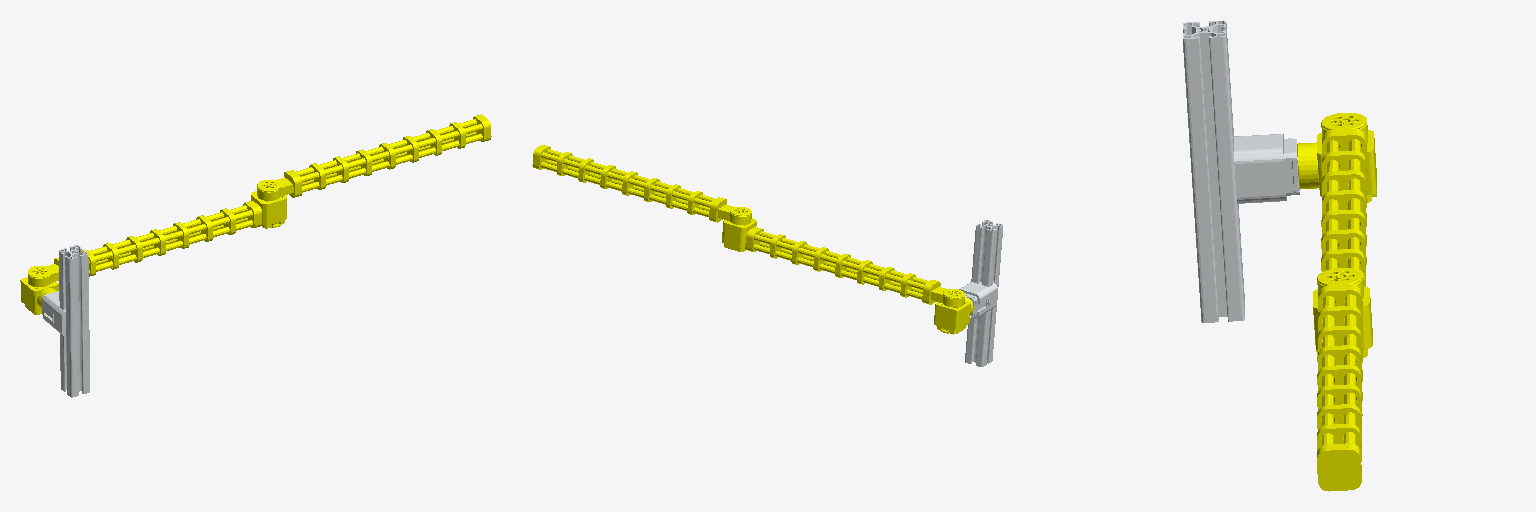
URDF robot description (Pierna enteraaaaaaaaaaa.SLDASM):
<?xml version="1.0" encoding="utf-8"?>
<!-- This URDF was automatically created by SolidWorks to URDF Exporter! Originally created by [author] ([email redacted]) 
     Commit Version: 1.6.0-4-g7f85cfe  Build Version: 1.6.7995.38578
     For more information, please see http://wiki.ros.org/sw_urdf_exporter -->
<robot
  name="Pierna enteraaaaaaaaaaa.SLDASM">
  <link
    name="base_link">
    <inertial>
      <origin
        xyz="-0.0025025 -0.17588 0.25152"
        rpy="0 0 0" />
      <mass
        value="0.31319" />
      <inertia
        ixx="0.0011307"
        ixy="-1.0144E-05"
        ixz="5.0665E-05"
        iyy="0.0011316"
        iyz="6.2853E-05"
        izz="0.00011229" />
    </inertial>
    <visual>
      <origin
        xyz="0 0 0"
        rpy="0 0 0" />
      <geometry>
        <mesh
          filename="package://lesson_urdf/meshes/base_link.STL" />
      </geometry>
      <material
        name="">
        <color
          rgba="0.89804 0.92157 0.92941 1" />
      </material>
    </visual>
    <collision>
      <origin
        xyz="0 0 0"
        rpy="0 0 0" />
      <geometry>
        <mesh
          filename="package://lesson_urdf/meshes/base_link.STL" />
      </geometry>
    </collision>
  </link>
  <link
    name="link_p">
    <inertial>
      <origin
        xyz="-0.000150427229849236 -0.00297528930070973 0.0208919297661822"
        rpy="0 0 0" />
      <mass
        value="0.138380104137137" />
      <inertia
        ixx="5.05247266315499E-05"
        ixy="6.91643752688145E-07"
        ixz="-5.29990486490267E-08"
        iyy="6.42572200451749E-05"
        iyz="-1.03863238761051E-06"
        izz="4.27301161244844E-05" />
    </inertial>
    <visual>
      <origin
        xyz="0 0 0"
        rpy="0 0 0" />
      <geometry>
        <mesh
          filename="package://lesson_urdf/meshes/link_p.STL" />
      </geometry>
      <material
        name="">
        <color
          rgba="1 1 0 1" />
      </material>
    </visual>
    <collision>
      <origin
        xyz="0 0 0"
        rpy="0 0 0" />
      <geometry>
        <mesh
          filename="package://lesson_urdf/meshes/link_p.STL" />
      </geometry>
    </collision>
  </link>
  <joint
    name="joint_p"
    type="continuous">
    <origin
      xyz="-0.0024512 -0.097818 0.25643"
      rpy="1.5091 0 -3.1416" />
    <parent
      link="base_link" />
    <child
      link="link_p" />
    <axis
      xyz="0 0 1" />
  </joint>
  <link
    name="link_c">
    <inertial>
      <origin
        xyz="0.315330280840531 -2.34606143384025E-05 -0.010047091614373"
        rpy="0 0 0" />
      <mass
        value="0.3089298949799" />
      <inertia
        ixx="7.20297996548906E-05"
        ixy="-1.74839874712284E-09"
        ixz="-4.98731333977898E-06"
        iyy="0.000717249875302029"
        iyz="-1.3946552312525E-08"
        izz="0.00073083436101478" />
    </inertial>
    <visual>
      <origin
        xyz="0 0 0"
        rpy="0 0 0" />
      <geometry>
        <mesh
          filename="package://lesson_urdf/meshes/link_c.STL" />
      </geometry>
      <material
        name="">
        <color
          rgba="1 1 0 1" />
      </material>
    </visual>
    <collision>
      <origin
        xyz="0 0 0"
        rpy="0 0 0" />
      <geometry>
        <mesh
          filename="package://lesson_urdf/meshes/link_c.STL" />
      </geometry>
    </collision>
  </link>
  <joint
    name="joint_c"
    type="continuous">
    <origin
      xyz="0.0021041 0.042122 0.02325"
      rpy="1.5708 0 3.0917" />
    <parent
      link="link_p" />
    <child
      link="link_c" />
    <axis
      xyz="0 0 -1" />
  </joint>
  <link
    name="link_r">
    <inertial>
      <origin
        xyz="0.212306297554012 1.94867171676716E-06 -0.011447592682255"
        rpy="0 0 0" />
      <mass
        value="0.184300341408798" />
      <inertia
        ixx="3.3203754311843E-05"
        ixy="-2.50204353742291E-09"
        ixz="-1.00150733282631E-10"
        iyy="0.000663634897908807"
        iyz="-2.39351302771645E-10"
        izz="0.000665757228078733" />
    </inertial>
    <visual>
      <origin
        xyz="0 0 0"
        rpy="0 0 0" />
      <geometry>
        <mesh
          filename="package://lesson_urdf/meshes/link_r.STL" />
      </geometry>
      <material
        name="">
        <color
          rgba="1 1 0 1" />
      </material>
    </visual>
    <collision>
      <origin
        xyz="0 0 0"
        rpy="0 0 0" />
      <geometry>
        <mesh
          filename="package://lesson_urdf/meshes/link_r.STL" />
      </geometry>
    </collision>
  </link>
  <joint
    name="joint_r"
    type="continuous">
    <origin
      xyz="0.468 0 0.037775"
      rpy="0 0 0" />
    <parent
      link="link_c" />
    <child
      link="link_r" />
    <axis
      xyz="0 0 -1" />
  </joint>
</robot>

--- Render facts (derived) ---
Views: 3 orthographic renders of the robot side by side, from view 1: azimuth 30°, elevation 25°; view 2: azimuth 150°, elevation 25°; view 3: azimuth 270°, elevation 25°.
Robot: Pierna enteraaaaaaaaaaa.SLDASM — 4 links, 3 joints (3 continuous); root link base_link; default pose: every joint at zero.
Visible links, largest first — view 1: link_c, link_r, base_link, link_p; view 2: link_c, link_r, base_link, link_p; view 3: base_link, link_r, link_c, link_p.
Boxes of the visible links, x1,y1,x2,y2 form: link_c: (28,191,286,286); link_r: (257,114,491,200); base_link: (42,245,89,397); link_p: (20,277,58,314); link_c: (722,218,964,307); link_r: (532,145,751,224); base_link: (959,220,1002,366); link_p: (934,297,973,334); base_link: (1183,20,1299,322); link_r: (1317,268,1363,491); link_c: (1313,113,1372,357); link_p: (1297,130,1376,202).
Bounding box of the posed robot: 0.9325 × 0.1777 × 0.2834 m (x, y, z).
4 mesh visuals loaded from 4 distinct referenced files (4 binary STL).